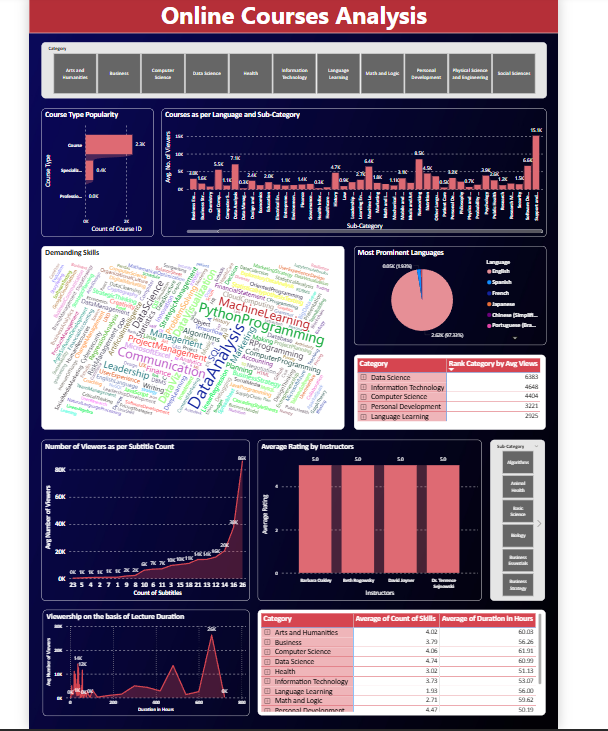

Layout of this report page (visuals, bound fields, positions):
{"tool":"powerbi","page":{"name":"Page 1","canvas":[1300,1800],"ordinal":0},"visuals":[{"type":"textbox","box":[0,0,1300.7,90.9],"z":0},{"type":"slicer","fields":{"Values":["Online_Courses.Category"]},"box":[29.5,114.2,1240.2,137.8],"z":1000},{"type":"barChart","title":"Course Type Popularity","fields":{"Category":["Online_Courses.Course Type"],"Y":["Online_Courses.Course ID"]},"box":[29.5,277.6,275.6,315],"z":2000},{"type":"columnChart","title":"Courses as per Language and Sub-Category","fields":{"Y":["Online_Courses.Number of viewers"],"Category":["Online_Courses.Sub-Category","Online_Courses.Language"]},"box":[324.8,277.6,944.9,315],"z":3000},{"type":"WordCloud1447959067750","title":"Demanding Skills","fields":{"Category":["Online_Courses.Skills"]},"box":[29.6,613.6,743.2,450.6],"z":4000},{"type":"pieChart","title":"Most Prominent Languages","fields":{"Category":["Online_Courses.Language"],"Y":["Online_Courses.Course ID"]},"box":[797.5,613.6,471.6,243.2],"z":5000},{"type":"pivotTable","fields":{"Rows":["Online_Courses.Category","Online_Courses.Language"],"Values":["Online_Courses.Rank_Category_by_avg_views"]},"box":[797.5,880.2,470.4,184],"z":6000},{"type":"lineChart","title":"Number of Viewers as per Subtitle Count","fields":{"Category":["Online_Courses.Subtitle List Count"],"Y":["Online_Courses.Number of viewers"]},"box":[29.6,1088.9,511.1,395.1],"z":7000},{"type":"columnChart","fields":{"Category":["Teachers.Instructors"],"Y":["Teachers.Instructor_rating"]},"box":[561.7,1088.9,549.4,395.1],"z":8000},{"type":"slicer","fields":{"Values":["Teachers.Sub-Category"]},"box":[1133.3,1088.9,134.6,395.1],"z":9000},{"type":"lineChart","title":"Viewership on the basis of Lecture Duration","fields":{"Category":["Online_Courses.Duration in Hours"],"Y":["Online_Courses.Number of viewers"]},"box":[33.3,1506.2,507.4,260.5],"z":10000},{"type":"pivotTable","fields":{"Rows":["Online_Courses.Category","Online_Courses.Sub-Category"],"Values":["Online_Courses.Count of Skills provided","Online_Courses.Duration in Hours"]},"box":[561.7,1507.4,706.2,259.3],"z":11000}]}

Visuals, with their boxes in screenshot pixels (x1, y1, x2, y2):
textbox: 29/0/569/30
slicer - Online_Courses.Category: 41/40/556/97
"Course Type Popularity" barChart: 41/108/155/238
"Courses as per Language and Sub-Category" columnChart: 163/108/556/238
"Demanding Skills" WordCloud1447959067750: 41/247/349/434
"Most Prominent Languages" pieChart: 360/247/556/348
pivotTable - Online_Courses.Category x Online_Courses.Language: 360/358/555/434
"Number of Viewers as per Subtitle Count" lineChart: 41/445/253/609
columnChart - Teachers.Instructors x Teachers.Instructor_rating: 262/445/490/609
slicer - Teachers.Sub-Category: 499/445/555/609
"Viewership on the basis of Lecture Duration" lineChart: 42/618/253/726
pivotTable - Online_Courses.Category x Online_Courses.Sub-Category: 262/618/555/726
